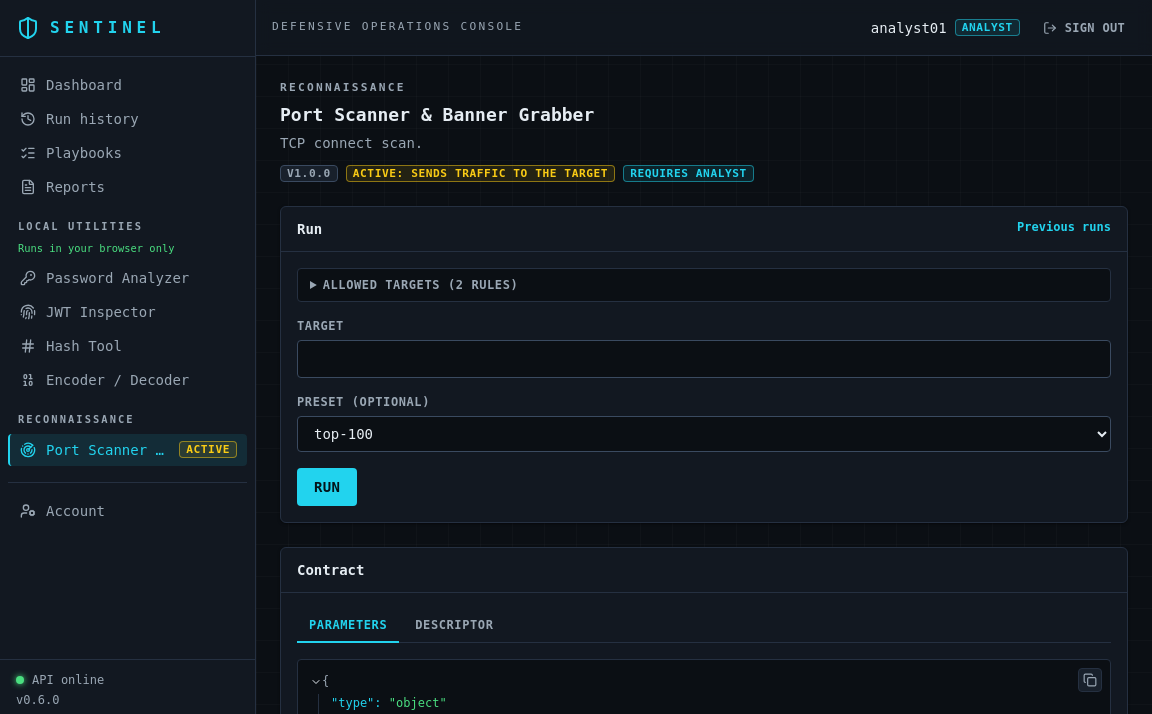
Scenario: authorised-use gate on active tools › re-shows the gate if the server says the statement is required
The width and height of the screenshot is (1152, 714).
Type "lab-web" into the field labelled "Target" at (704, 359), box [297,340,1111,378]
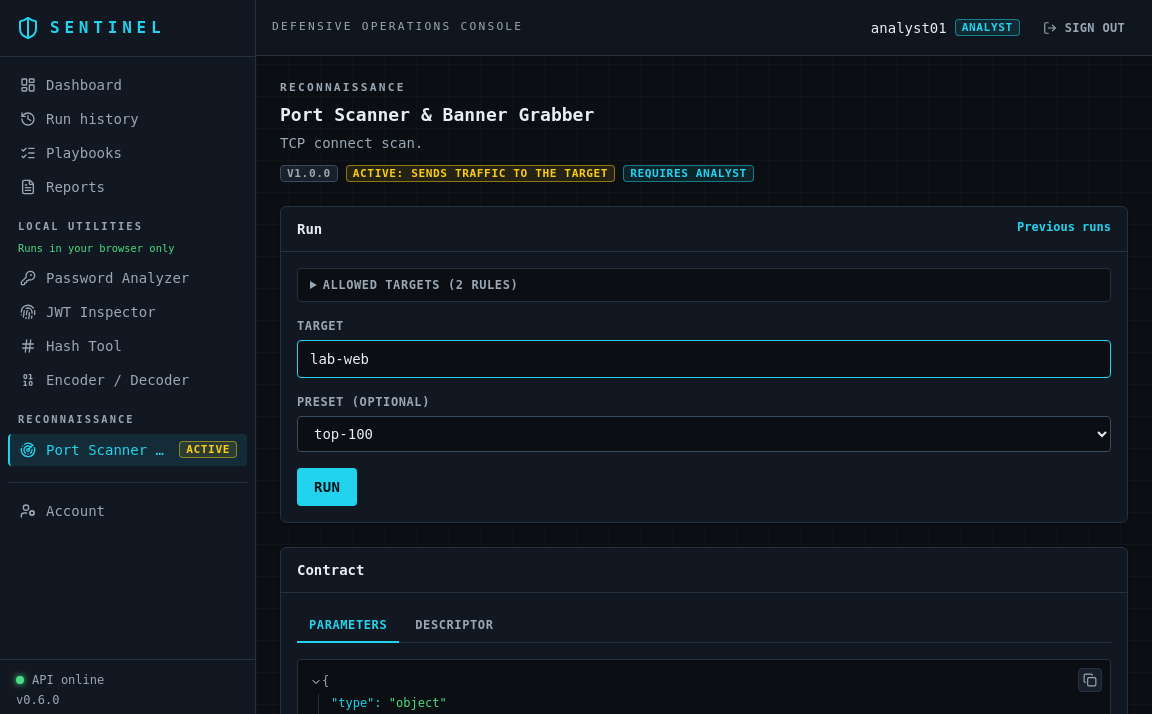
Click the button "Run" at (327, 487), box [297,468,357,506]
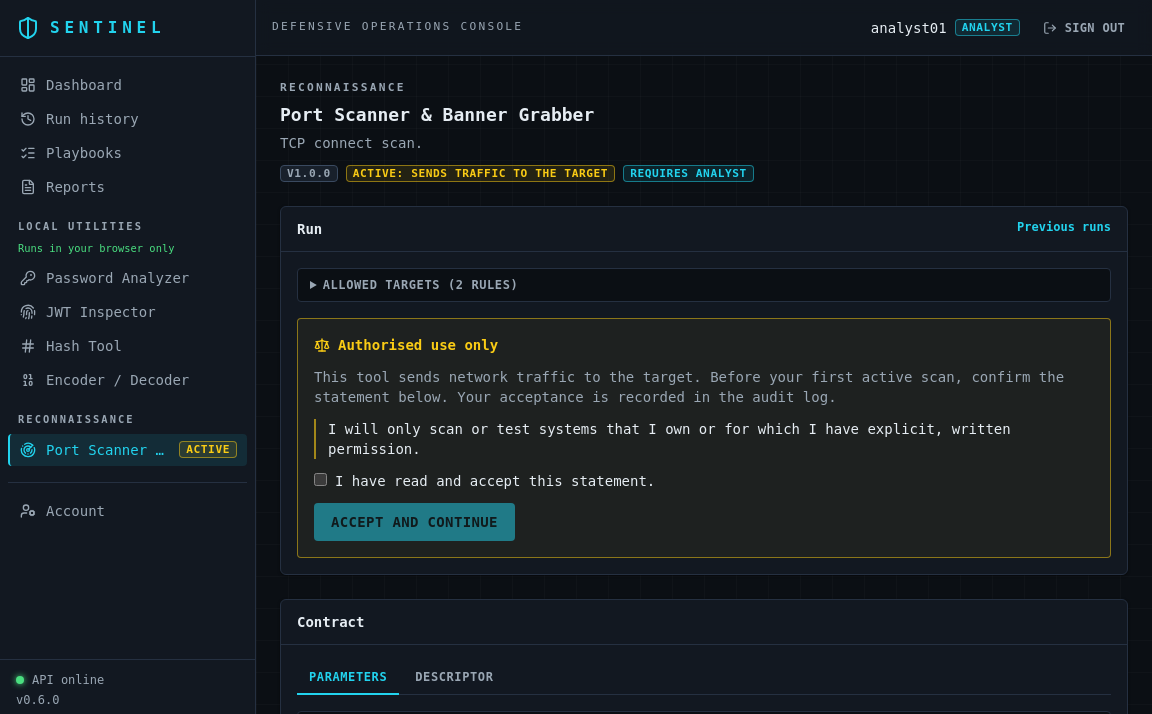
expect the text "I will only scan or test systems that I own or for which I have explicit, written permission." is shown: met, box [328,421,1011,457]
